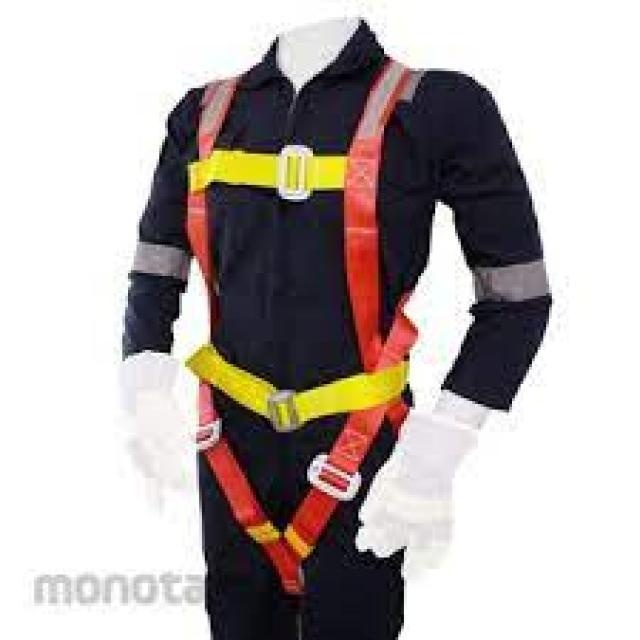Arnes_seguridad: (185, 56, 419, 562)
